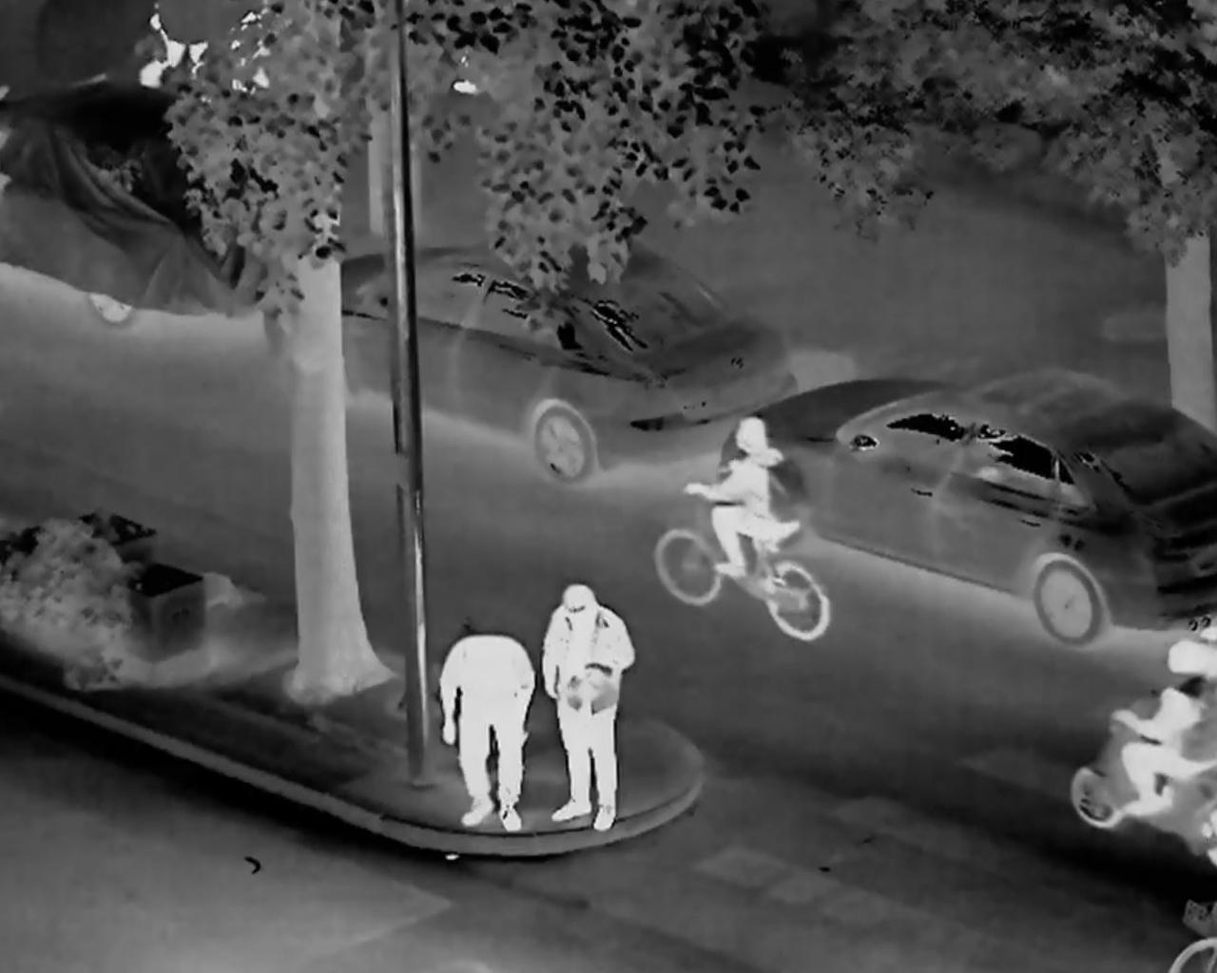person: (540, 580, 652, 835), (680, 408, 810, 625), (432, 615, 554, 831), (1124, 620, 1217, 868)
